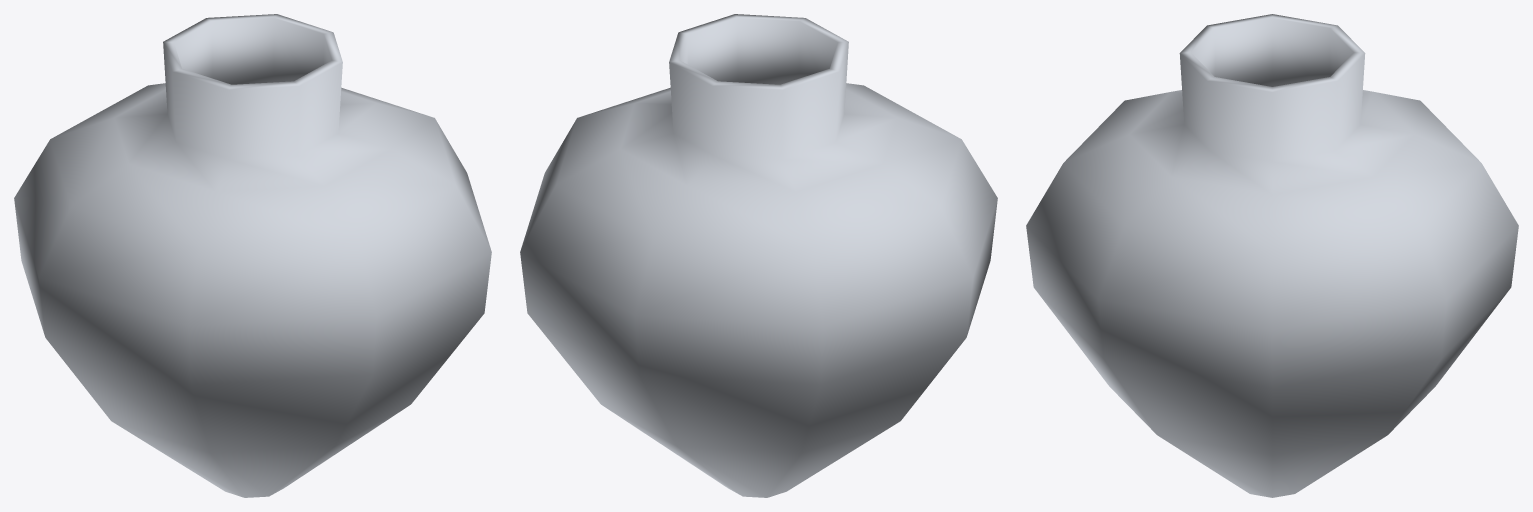
The model's file is bottle_glassware_pear_shaped_flask_large_003.glb.
3 renders of one model, left to right at view 1: azimuth 30°, elevation 25°; view 2: azimuth 150°, elevation 25°; view 3: azimuth 270°, elevation 25°, orthographic.
Parts seen in each view (by area): view 1: bottle_glassware_pear_shaped_flask_large.003; view 2: bottle_glassware_pear_shaped_flask_large.003; view 3: bottle_glassware_pear_shaped_flask_large.003.
Boxes of the visible parts, left/top/right/bottom form: bottle_glassware_pear_shaped_flask_large.003: left=14, top=14, right=491, bottom=497; bottle_glassware_pear_shaped_flask_large.003: left=520, top=14, right=997, bottom=497; bottle_glassware_pear_shaped_flask_large.003: left=1026, top=14, right=1518, bottom=497.
Size of the model in its own units: 17.5 by 16.92 by 17.5.
1 material, 1 textured.
